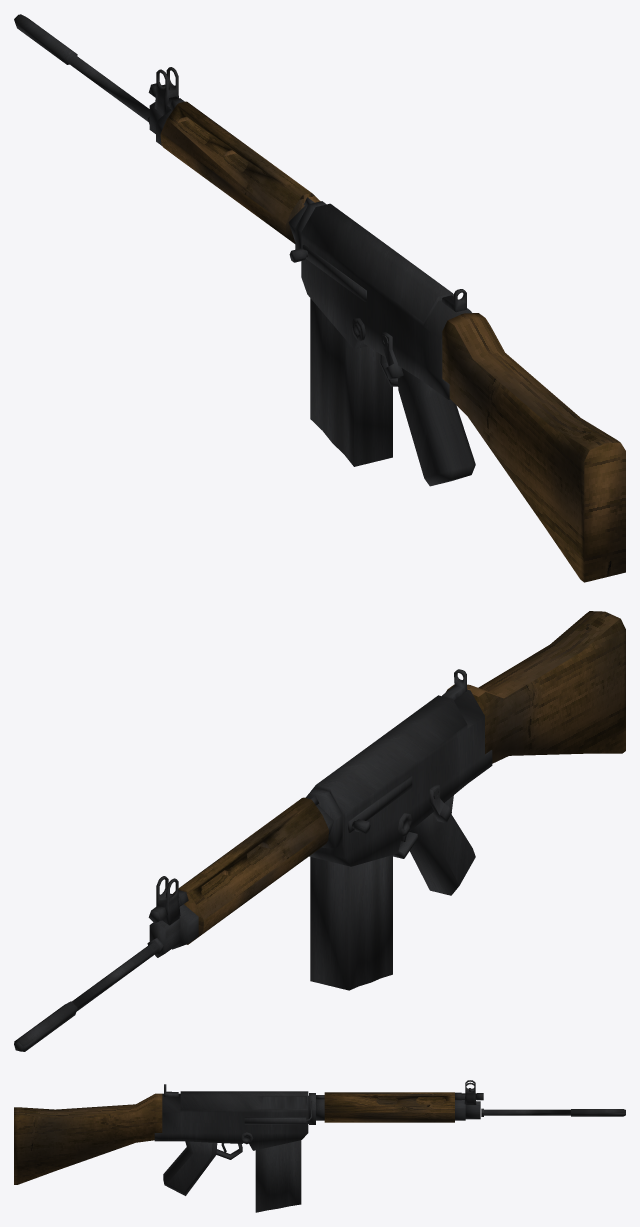
Rendered from assault_rifle.glb.
3 views of the same model, one above another, from view 1: azimuth 30°, elevation 25°; view 2: azimuth 150°, elevation 25°; view 3: azimuth 270°, elevation 25° (orthographic). The views are drawn at different scales.
Parts seen in each view (by area): view 1: assault_rifle; view 2: assault_rifle; view 3: assault_rifle.
Boxes of the visible parts, x1=… form: assault_rifle: x1=14, y1=14, x2=625, y2=582; assault_rifle: x1=14, y1=611, x2=625, y2=1051; assault_rifle: x1=14, y1=1080, x2=625, y2=1212.
Size of the model in its own units: 0.0646 by 0.2002 by 0.88.
Materials: 1 (1 with a texture image).
